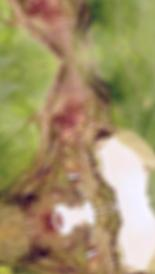Tomato leaf late blight: (0, 53, 132, 244)
